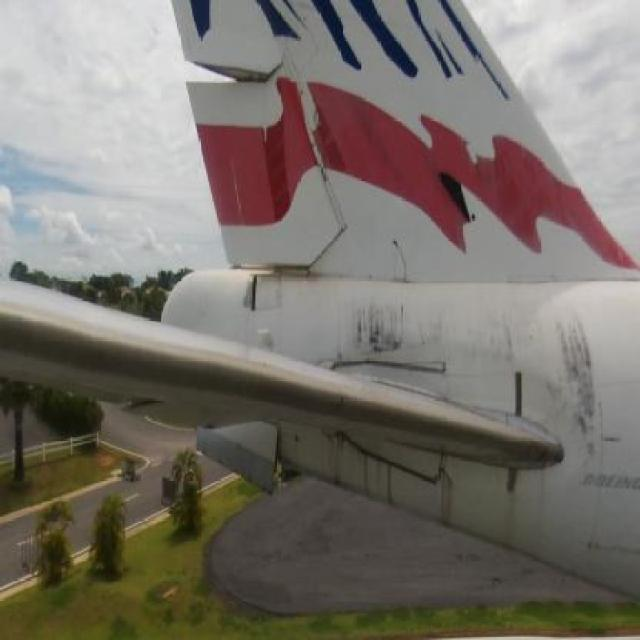Missing-Rivet: (319, 162, 350, 238), (302, 102, 322, 166)
Rust: (315, 427, 470, 524), (344, 282, 456, 362), (458, 304, 558, 376), (559, 302, 599, 476), (496, 466, 532, 572), (311, 150, 340, 198)
Scartch: (232, 270, 268, 318)
